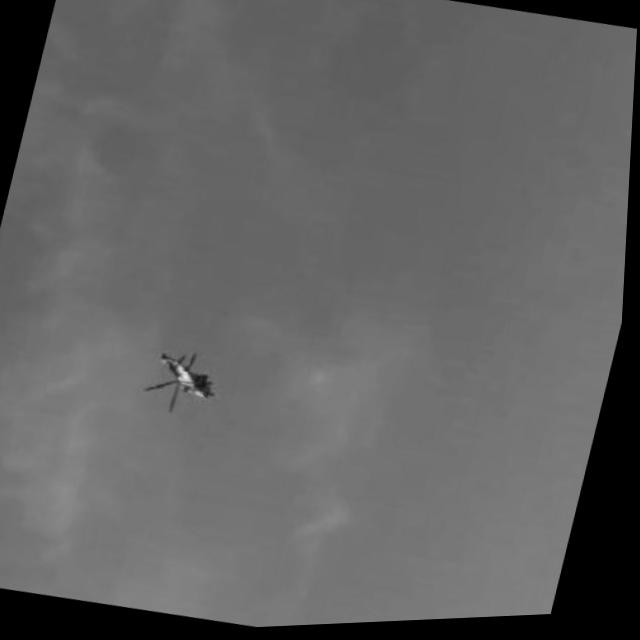helikopter: (147, 347, 229, 421)
